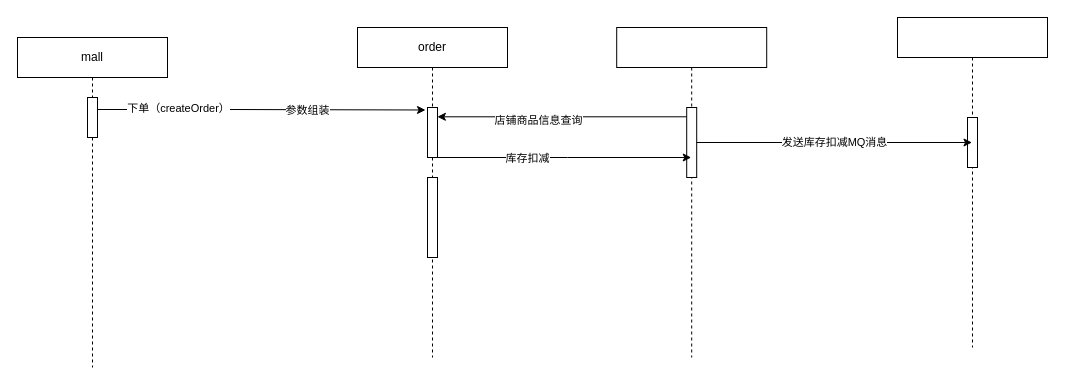
The diagram is 1065 pixels wide and 385 high, and some of its shapes have lost their labels. Each missing label, with the centre of its shape:
"goods" goes at [691,192].
"MQ" goes at [972,182].
